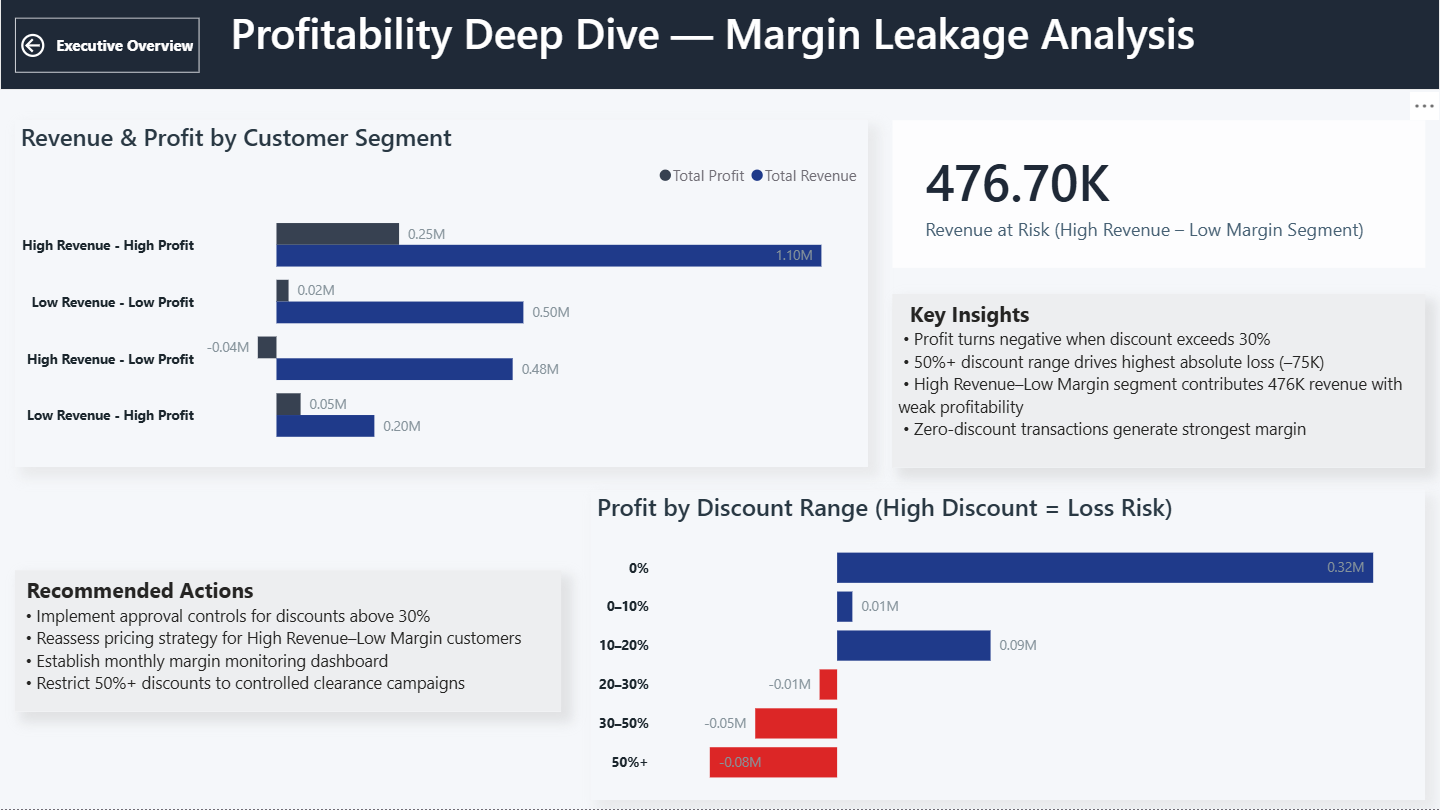

This screenshot's page, from the dashboard's own definition file:
{"tool":"powerbi","page":{"name":"Deep Business Analysis","canvas":[1280,720],"ordinal":1},"visuals":[{"type":"textbox","box":[0,0,1280,80.7],"z":0},{"type":"clusteredBarChart","title":"Revenue & Profit by Customer Segment","fields":{"Category":["Customer Summary.Customer Segment"],"Y":["Sum(Customer Summary.Total Profit)","Sum(Customer Summary.Total Revenue)"]},"box":[13.5,107.6,758.2,308.2],"z":1000},{"type":"cardVisual","title":"fdfs","fields":{"Data":["Customer Summary.HighLow Revenue"]},"box":[793.6,107.6,473.2,130.8],"z":2000},{"type":"barChart","title":"Profit by Discount Range (High Discount = Loss Risk)","fields":{"Category":["retail_analysis orders.Discount Bucket"],"Y":["retail_analysis orders.Total Profit"]},"box":[525.8,436.6,741,275.1],"z":3000},{"type":"actionButton","box":[13.5,17.1,163.9,48.9],"z":4000},{"type":"textbox","box":[793.6,261.7,473.2,154.1],"z":5000},{"type":"textbox","box":[13.5,507.5,485.5,126],"z":6000}]}

Visuals, with their boxes in screenshot pixels (x1, y1, x2, y2), scaled from the page's 1280x720 canvas onto the 1440x810 screenshot:
textbox: left=0, top=0, right=1439, bottom=91
"Revenue & Profit by Customer Segment" clusteredBarChart: left=15, top=121, right=868, bottom=468
"fdfs" cardVisual: left=893, top=121, right=1425, bottom=268
"Profit by Discount Range (High Discount = Loss Risk)" barChart: left=592, top=491, right=1425, bottom=801
actionButton: left=15, top=19, right=200, bottom=74
textbox: left=893, top=294, right=1425, bottom=468
textbox: left=15, top=571, right=561, bottom=713
